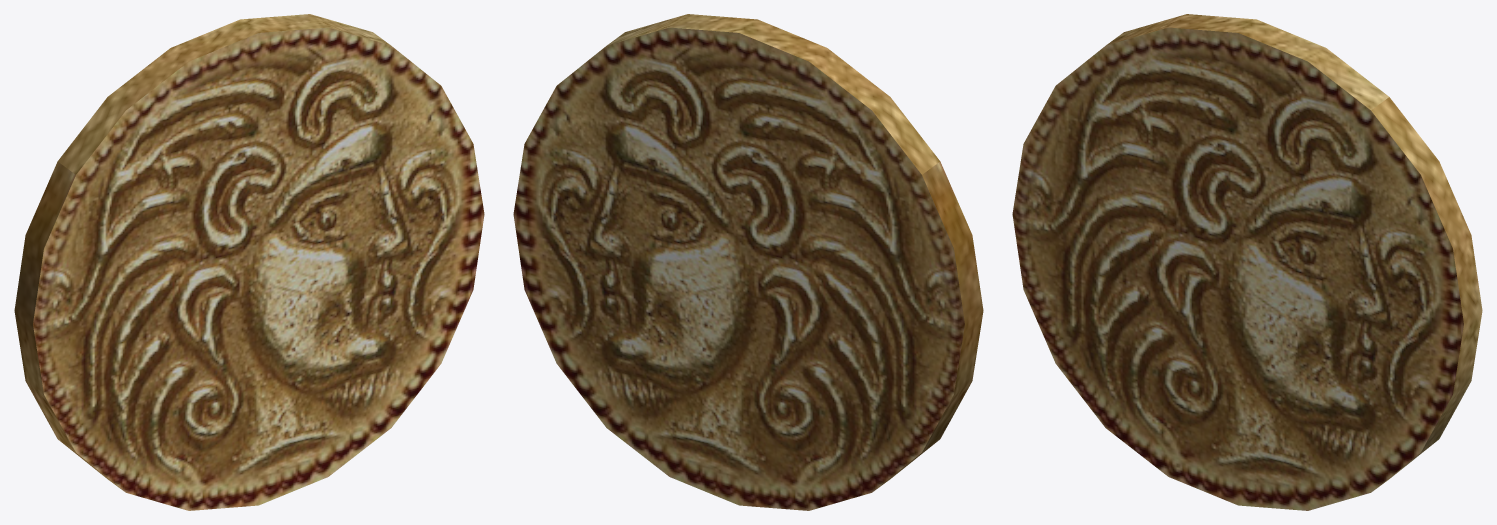
The model's file is coin.fbx.
3 views of the same model, side by side, from view 1: azimuth 30°, elevation 25°; view 2: azimuth 150°, elevation 25°; view 3: azimuth 330°, elevation 25° (orthographic).
Visible parts, largest first — view 1: pCylinder1; view 2: pCylinder1; view 3: pCylinder1.
Part boxes in pixels (left/top/right/bottom): pCylinder1: left=14, top=14, right=484, bottom=510; pCylinder1: left=513, top=14, right=983, bottom=510; pCylinder1: left=1012, top=14, right=1482, bottom=510.
Bounding box in the file's own units: 4.79 × 4.79 × 0.3392.
Materials: 1 (1 with a texture image).
